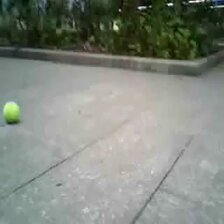tennis: (2, 101, 22, 123)
